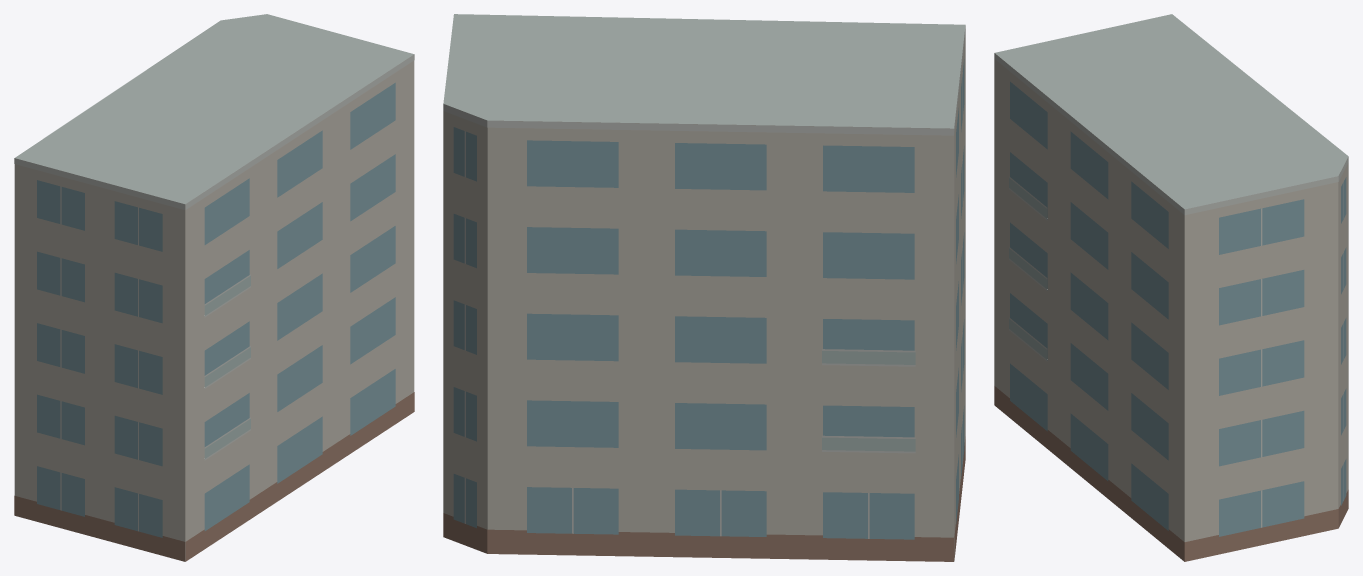
File: survey-upis-32907505.glb
3 views of the same model, side by side, from view 1: azimuth 30°, elevation 25°; view 2: azimuth 150°, elevation 25°; view 3: azimuth 270°, elevation 25° (orthographic). The views are drawn at different scales.
Parts seen in each view (by area): view 1: survey-upis-32907505.tmp; view 2: survey-upis-32907505.tmp; view 3: survey-upis-32907505.tmp.
Part boxes in pixels (bbox=[...]): survey-upis-32907505.tmp: bbox=[14, 14, 414, 561]; survey-upis-32907505.tmp: bbox=[443, 14, 965, 561]; survey-upis-32907505.tmp: bbox=[994, 14, 1348, 561].
Bounding box in the file's own units: 17.52 × 14.72 × 13.41.
